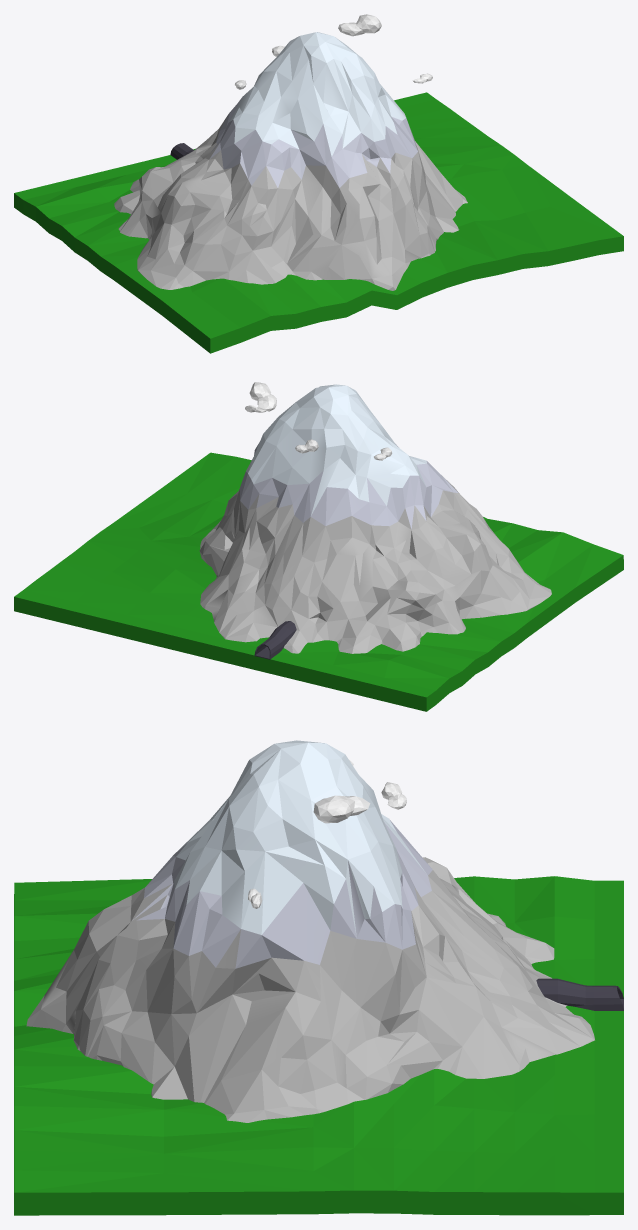
File: Mountain.fbx
3 renders of one model, top to bottom at view 1: azimuth 30°, elevation 25°; view 2: azimuth 150°, elevation 25°; view 3: azimuth 270°, elevation 25°, orthographic. The views are drawn at different scales.
Parts seen in each view (by area): view 1: Mountain, Cloud.003; view 2: Mountain, Tunnel, Cloud.003; view 3: Mountain, Tunnel, Cloud.003.
Part boxes in pixels (box(x1,y1,x2,y2)): Mountain: box(14, 32, 623, 353); Cloud.003: box(338, 14, 381, 36); Mountain: box(14, 384, 623, 711); Tunnel: box(254, 621, 296, 659); Cloud.003: box(249, 382, 276, 411); Mountain: box(14, 740, 623, 1215); Tunnel: box(536, 978, 623, 1010); Cloud.003: box(313, 795, 370, 823).
Size of the model in its own units: 14755 by 6988 by 12169.
